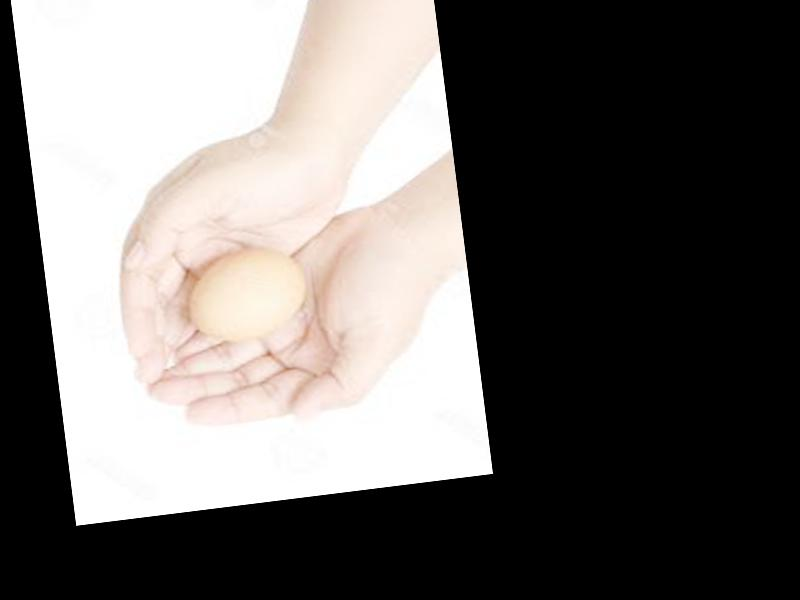Eggs: (186, 243, 308, 344)
